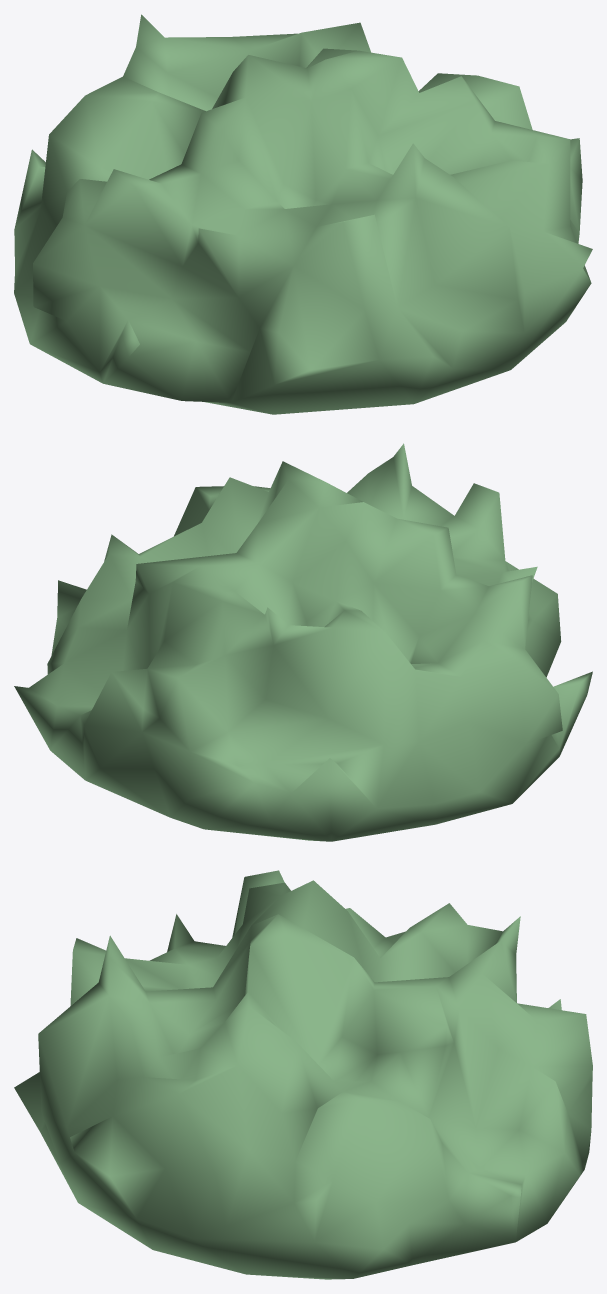
3 renders of one model, top to bottom at view 1: azimuth 30°, elevation 25°; view 2: azimuth 150°, elevation 25°; view 3: azimuth 270°, elevation 25°, orthographic. The views are drawn at different scales.
Parts seen in each view (by area): view 1: 넓은 잎 풀 포기; view 2: 넓은 잎 풀 포기; view 3: 넓은 잎 풀 포기.
Part boxes in pixels (bbox=[...]): 넓은 잎 풀 포기: bbox=[14, 14, 592, 414]; 넓은 잎 풀 포기: bbox=[14, 443, 592, 841]; 넓은 잎 풀 포기: bbox=[14, 870, 592, 1279].
Bounding box in the file's own units: 65.66 × 31.9 × 61.26.
